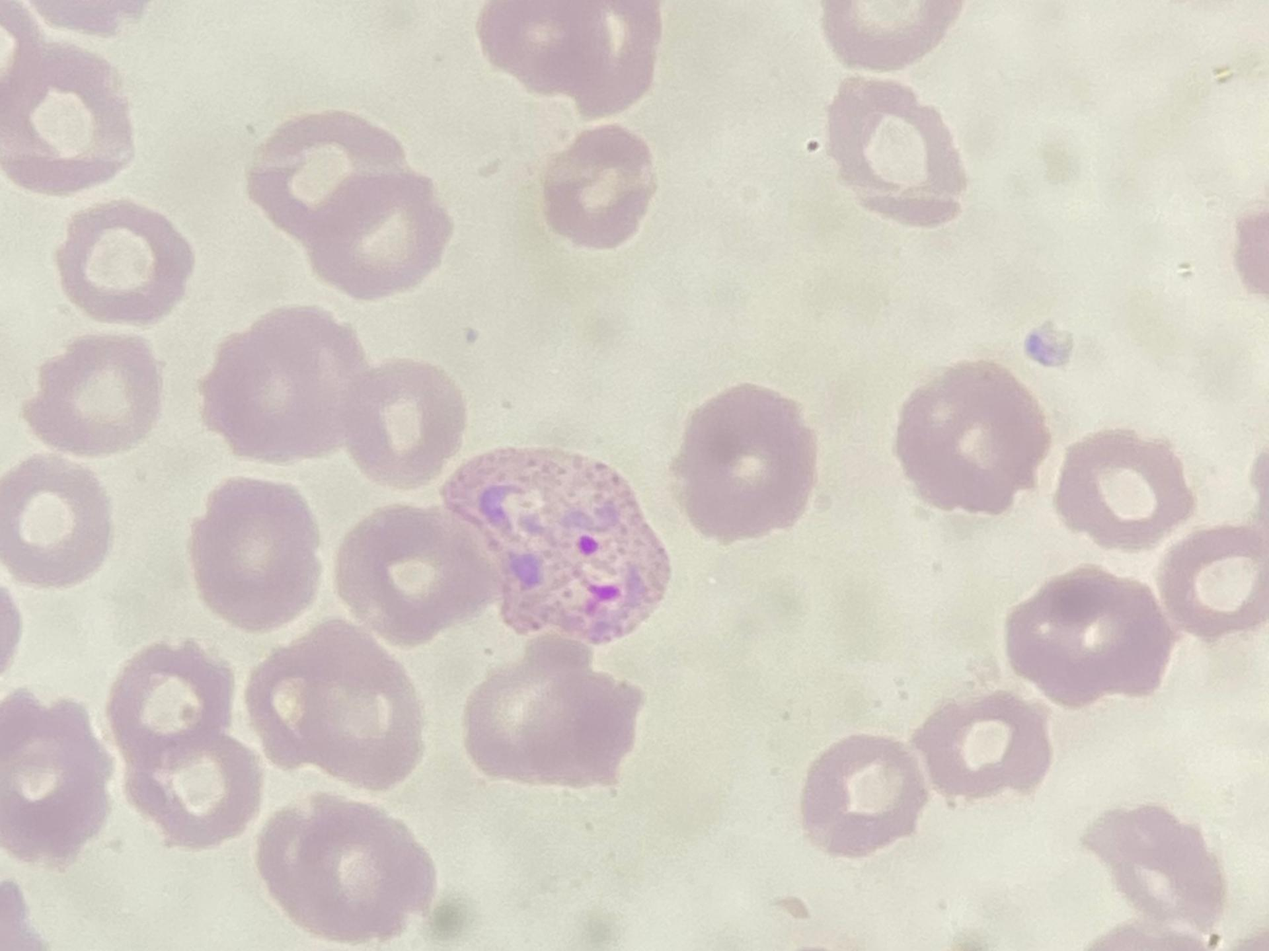Infected: (447, 441, 671, 643)
Uninfected: (249, 624, 426, 796), (203, 309, 379, 464), (463, 640, 643, 787), (892, 362, 1046, 521), (1005, 567, 1176, 706), (676, 384, 824, 540), (330, 512, 498, 646), (247, 111, 408, 246), (826, 76, 966, 230), (269, 805, 433, 935), (187, 477, 320, 634), (4, 43, 137, 198), (0, 692, 115, 863), (304, 168, 452, 299), (20, 333, 172, 458), (119, 734, 270, 850), (1053, 428, 1197, 547), (57, 199, 198, 318), (798, 732, 927, 858), (104, 644, 235, 763), (925, 690, 1059, 800), (350, 360, 469, 480), (1148, 525, 1269, 642), (2, 459, 110, 587), (549, 124, 652, 251)
